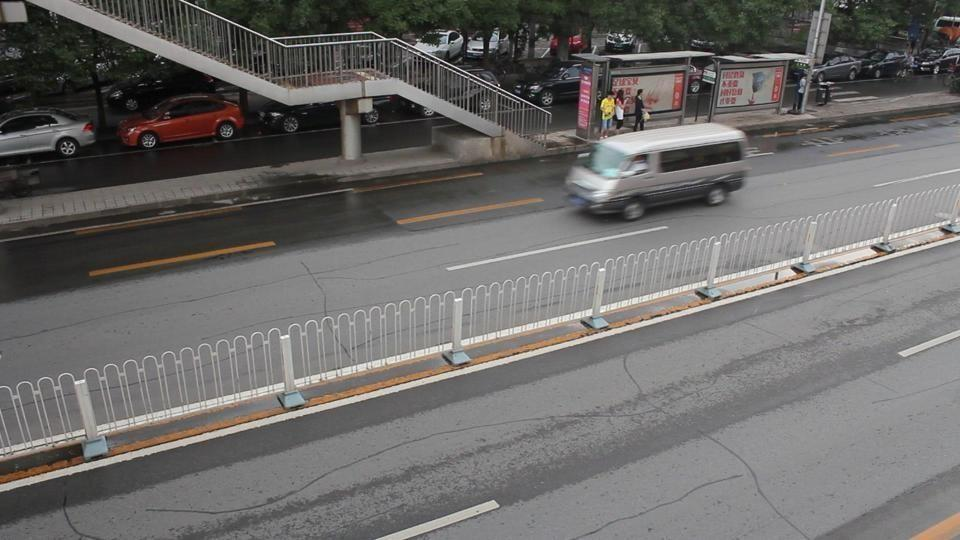car: (564, 121, 752, 222), (116, 94, 245, 150), (1, 110, 96, 162), (105, 72, 212, 112), (512, 63, 592, 106), (414, 30, 465, 63), (854, 52, 911, 80), (809, 56, 864, 82), (911, 50, 959, 76), (602, 31, 639, 54), (936, 47, 960, 75)
